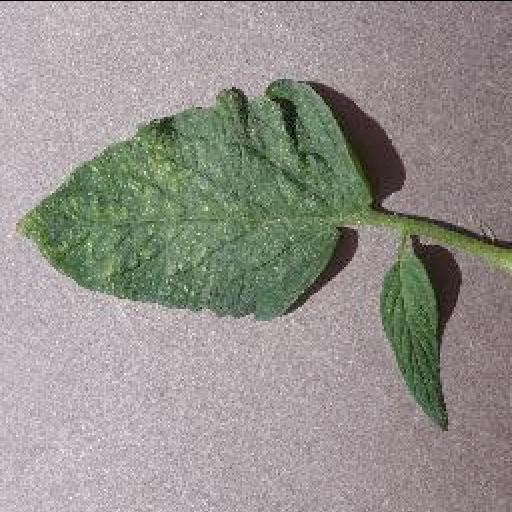disease_tomato: (12, 76, 374, 320)
